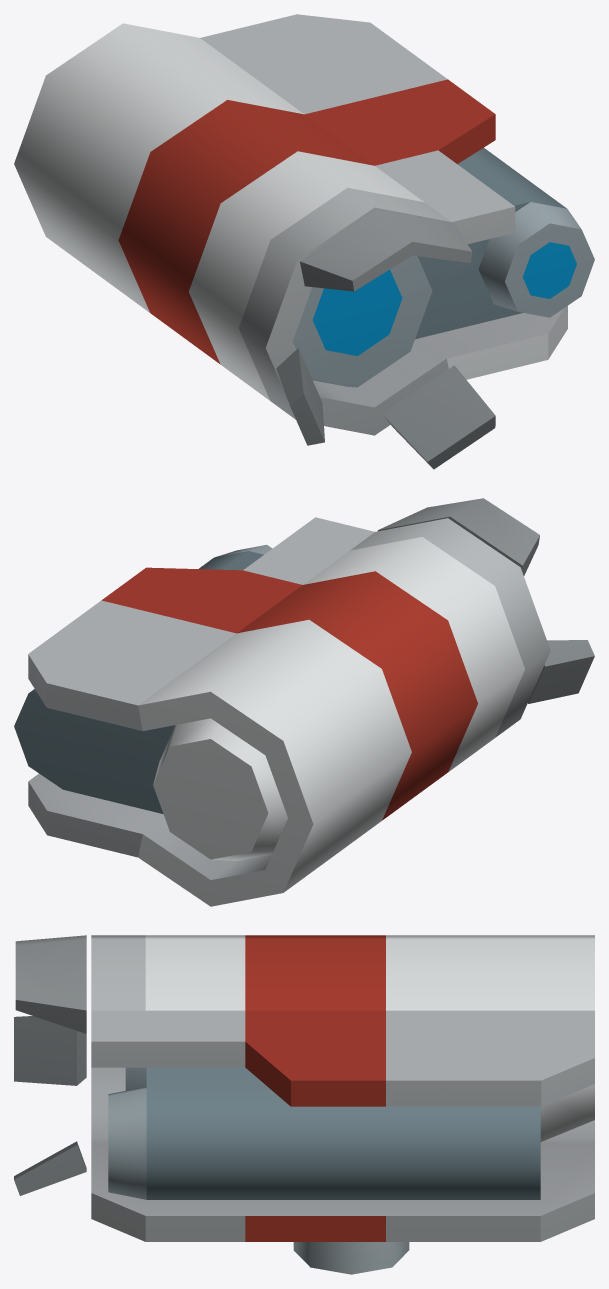
The model's file is Cam_004.fbx.
3 renders of one model, top to bottom at view 1: azimuth 30°, elevation 25°; view 2: azimuth 150°, elevation 25°; view 3: azimuth 270°, elevation 25°, orthographic. The views are drawn at different scales.
Visible parts, largest first — view 1: Cam_004; view 2: Cam_004; view 3: Cam_004.
Part boxes in pixels (bbox=[...]): Cam_004: bbox=[14, 14, 594, 469]; Cam_004: bbox=[14, 498, 594, 906]; Cam_004: bbox=[14, 935, 594, 1274].
Size of the model in its own units: 25.73 by 36.34 by 17.16.
